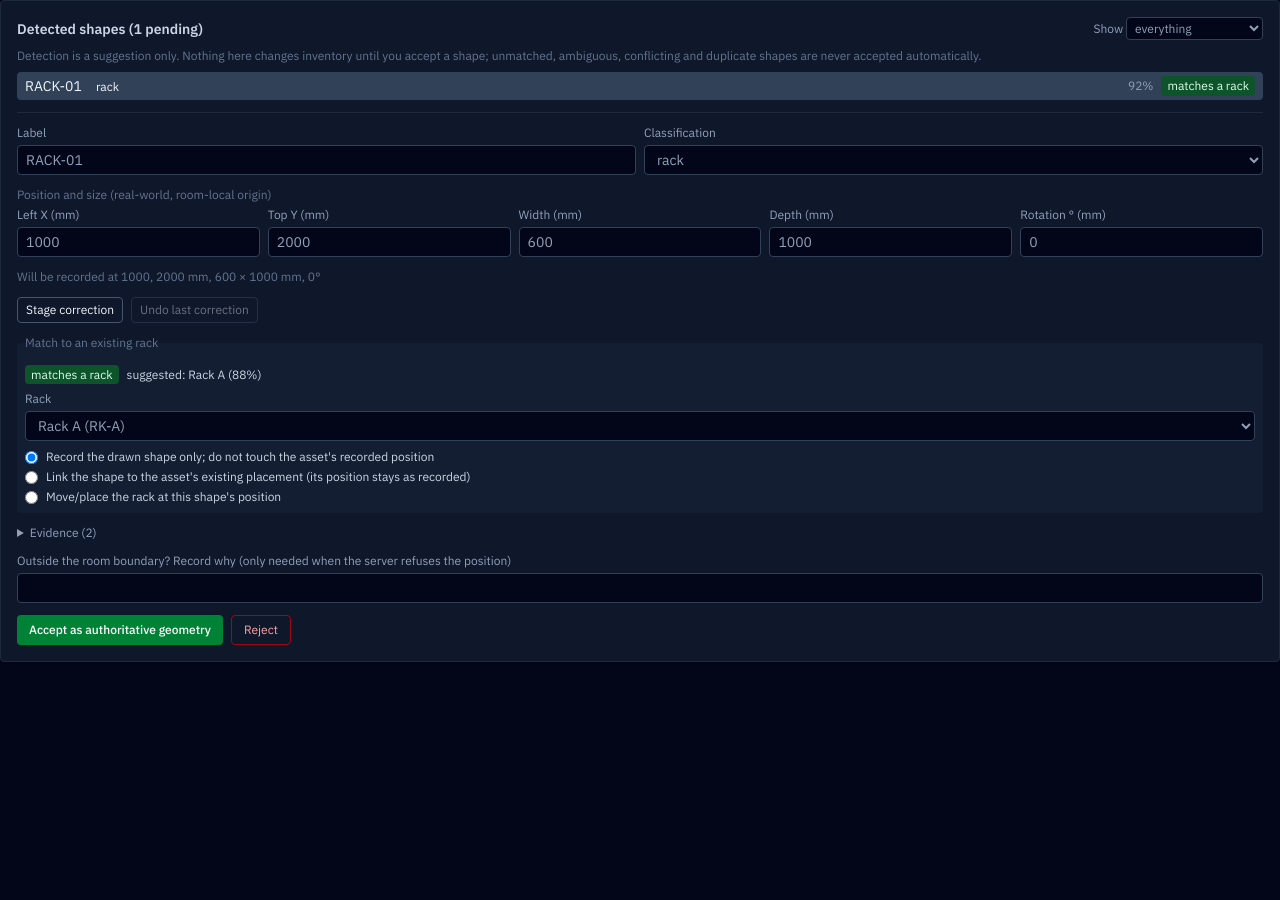
Scenario: CandidateReview › changing the matched rack resets the placement choice back to record-only
Step 1. Click the radio button labelled "Link the shape" → point(32, 477), box [25,470,38,484]
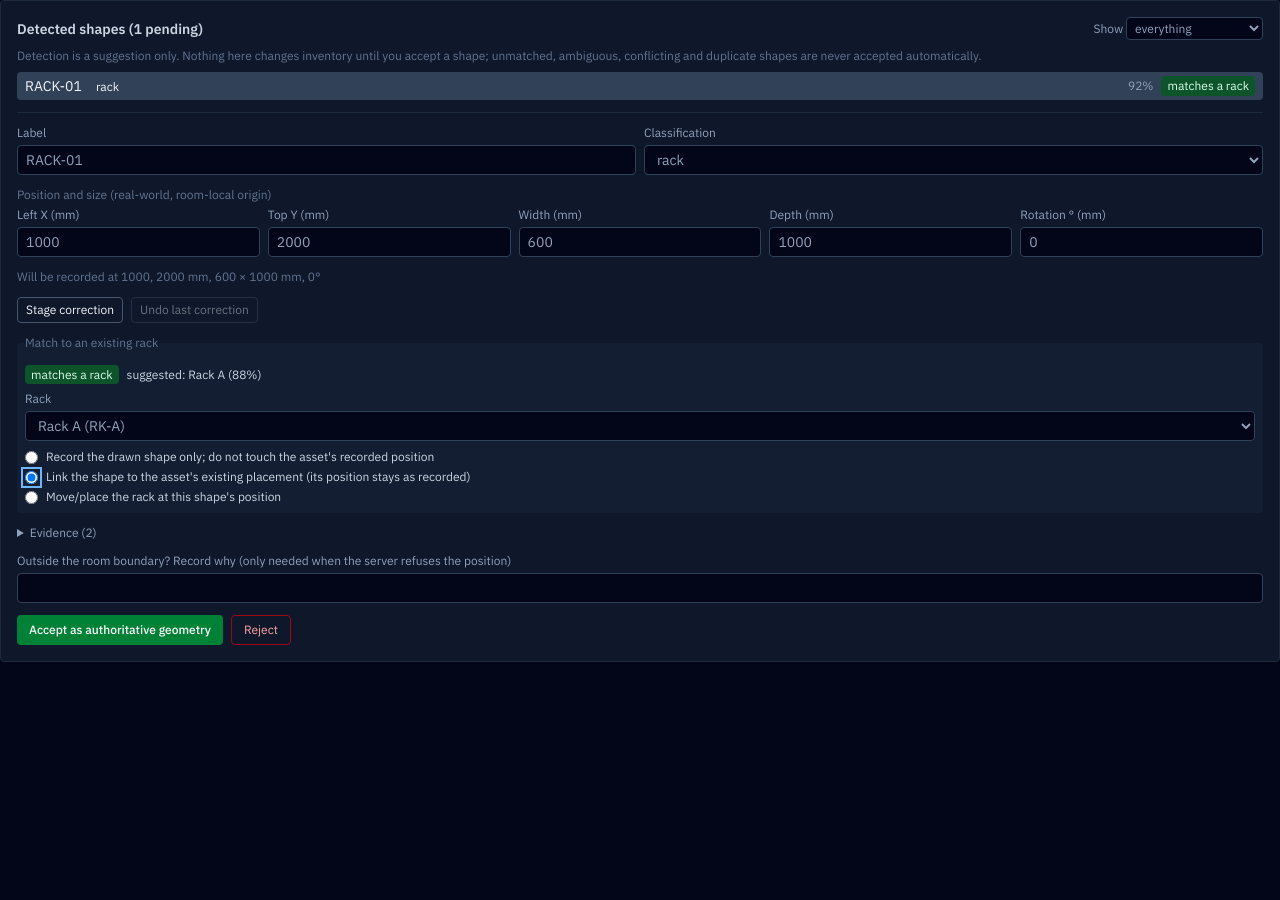
Step 2. Select "Rack B (RK-B)" in the dropdown named "Matched rack" → point(640, 426), box [25,411,1255,441]
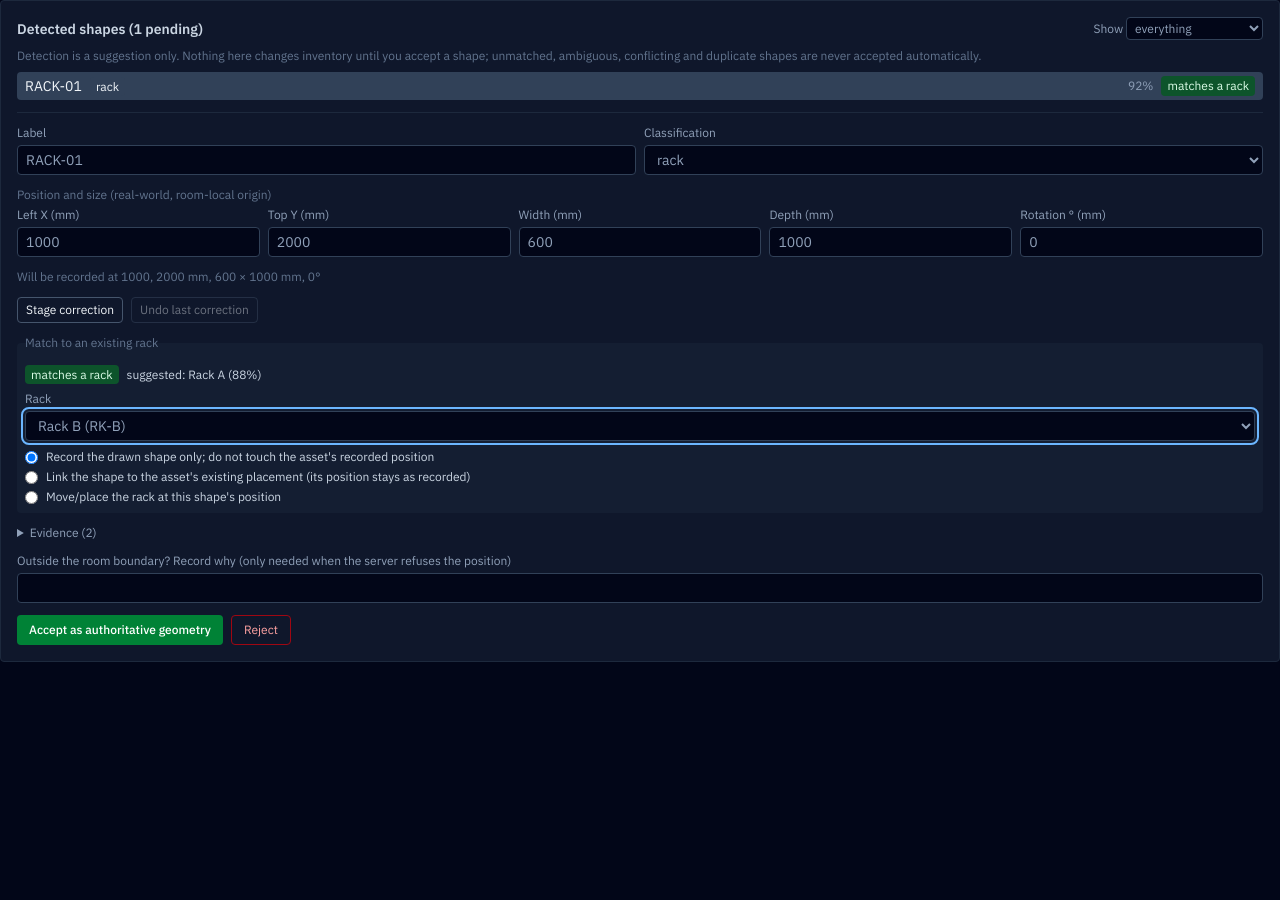
Check: the radio button labelled "Record the drawn shape only" is checked, box [25,450,38,464]
